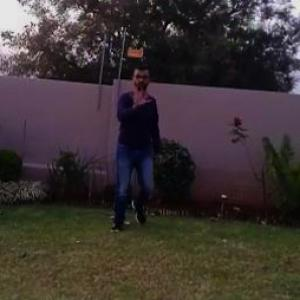follow_hand: (126, 82, 152, 108)
